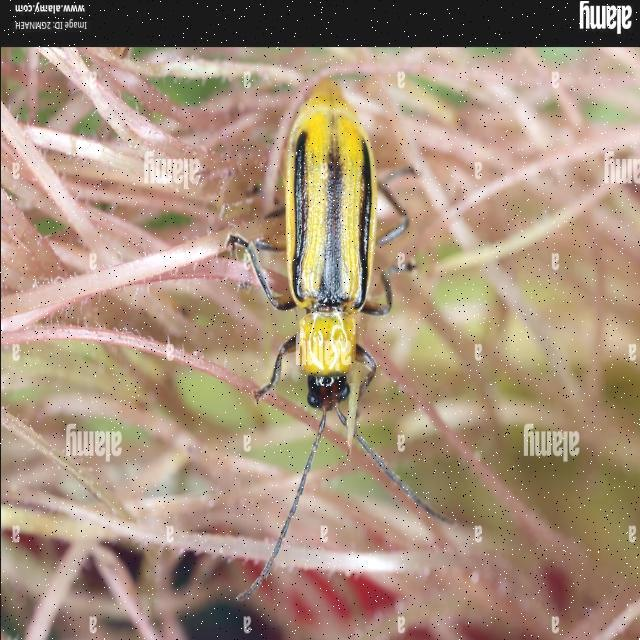trips: (197, 50, 451, 607)
